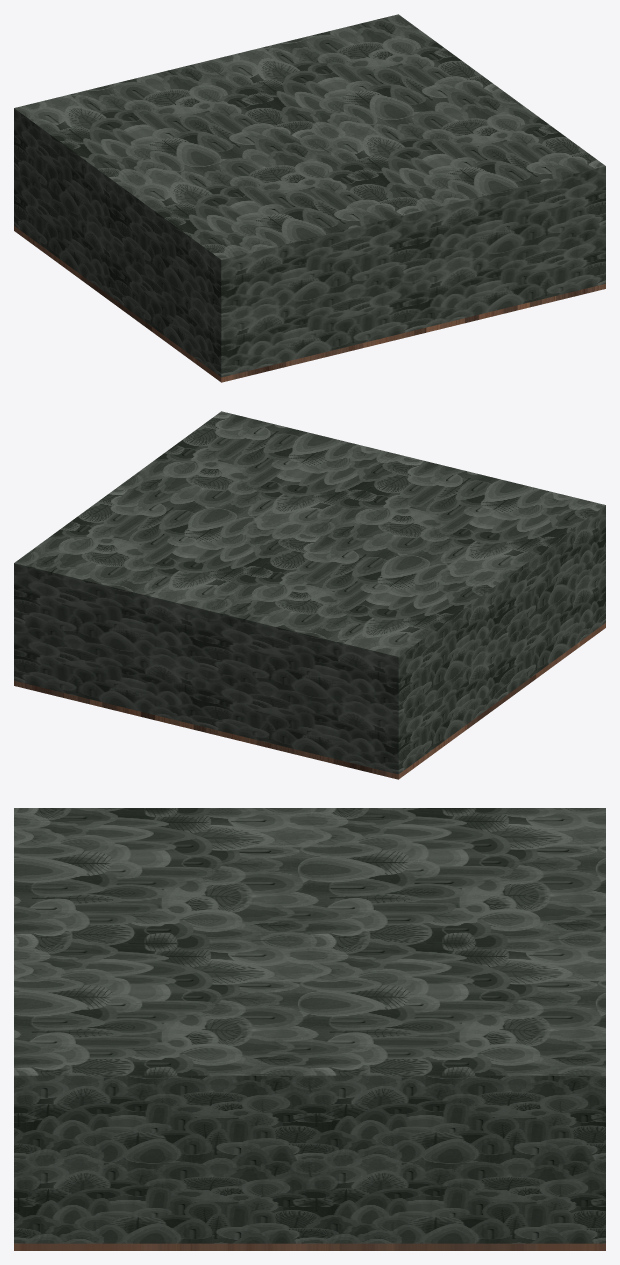
The picture shows the model from 3 angles, top to bottom: view 1: azimuth 30°, elevation 25°; view 2: azimuth 150°, elevation 25°; view 3: azimuth 270°, elevation 25°; orthographic projection. The views are drawn at different scales.
Parts seen in each view (by area): view 1: Enclosure, Floor; view 2: Enclosure, Floor; view 3: Enclosure, Floor.
Boxes of the visible parts, x1,y1,x2,y2 form: Enclosure: [14, 14, 605, 377]; Floor: [14, 226, 605, 382]; Enclosure: [14, 411, 605, 774]; Floor: [14, 623, 605, 779]; Enclosure: [14, 808, 605, 1243]; Floor: [14, 1243, 605, 1250].
Bounding box in the file's own units: 34.11 × 10.41 × 31.87.
Materials: 8 (4 with a texture image).
